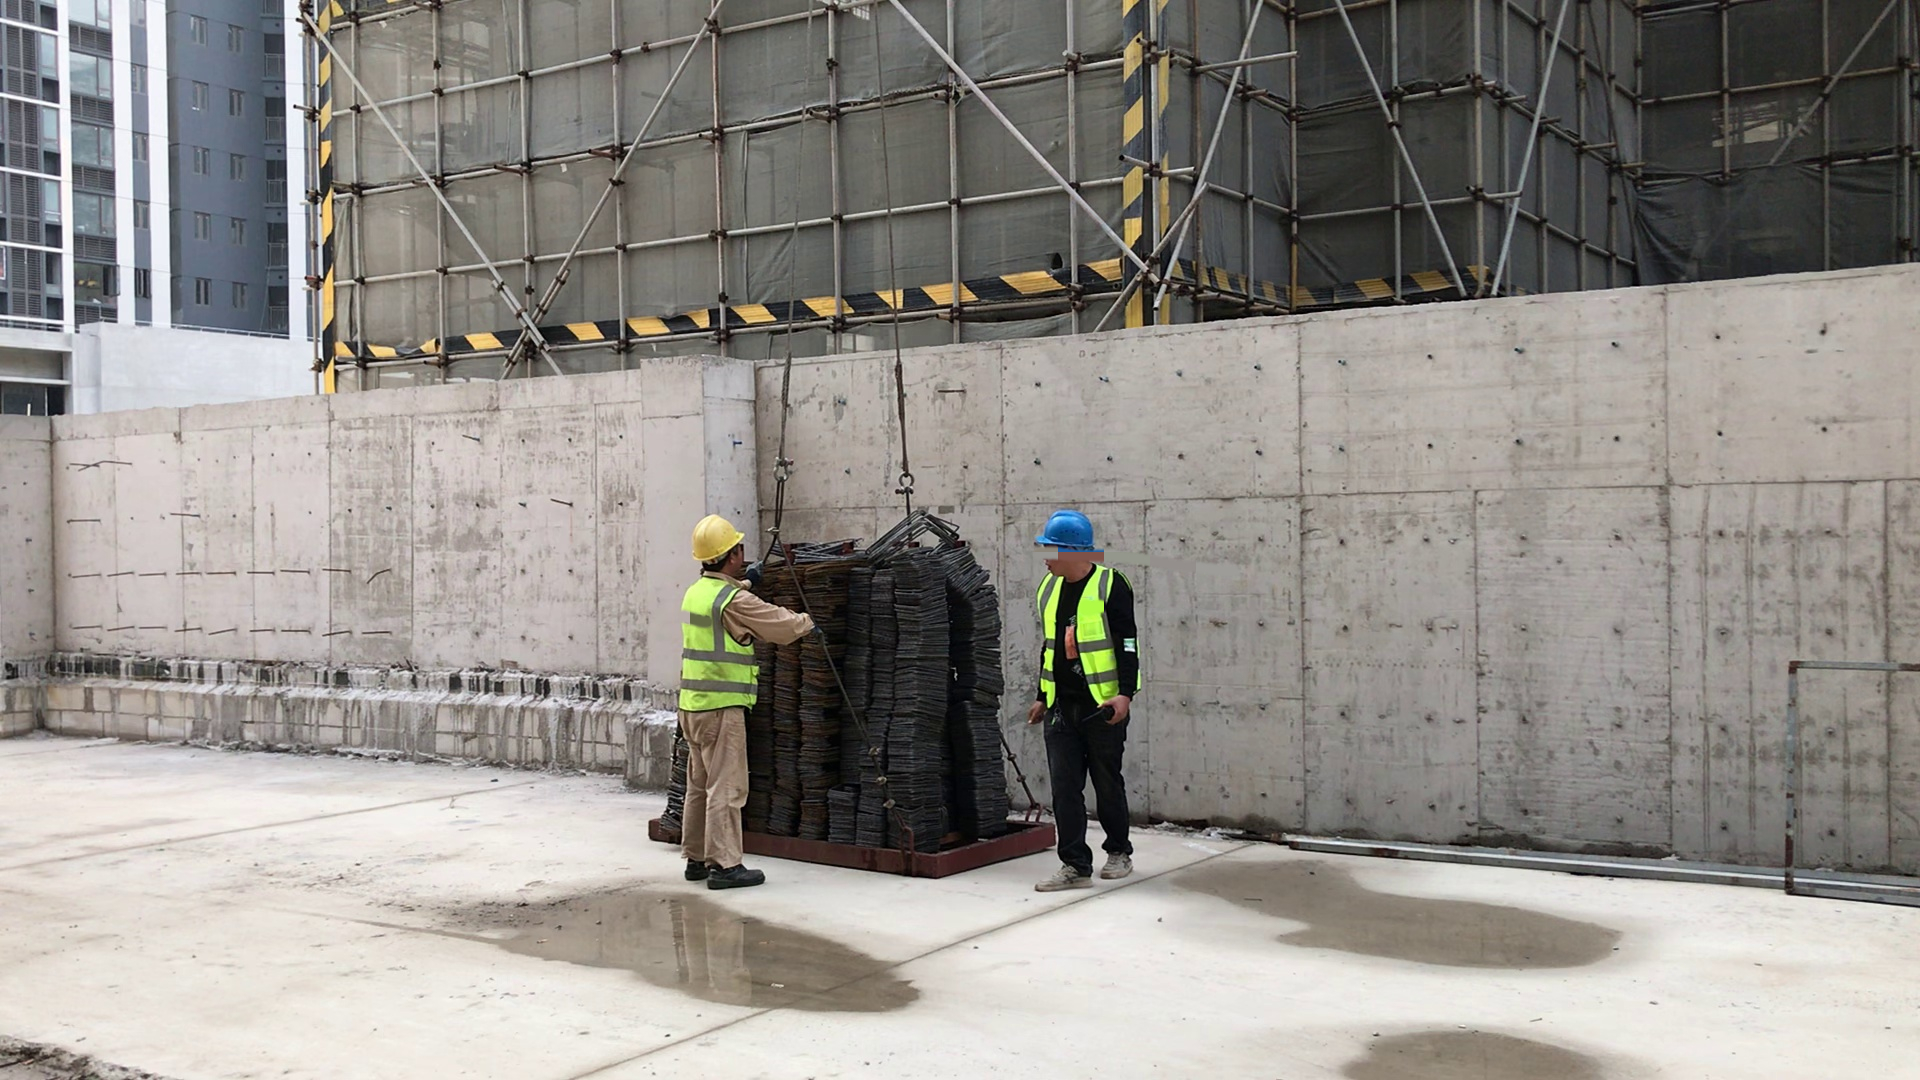helmet: (1032, 497, 1115, 560), (681, 513, 764, 561)
person: (1019, 483, 1141, 889), (689, 518, 790, 898)
vest: (1027, 573, 1139, 701), (674, 582, 761, 714)
